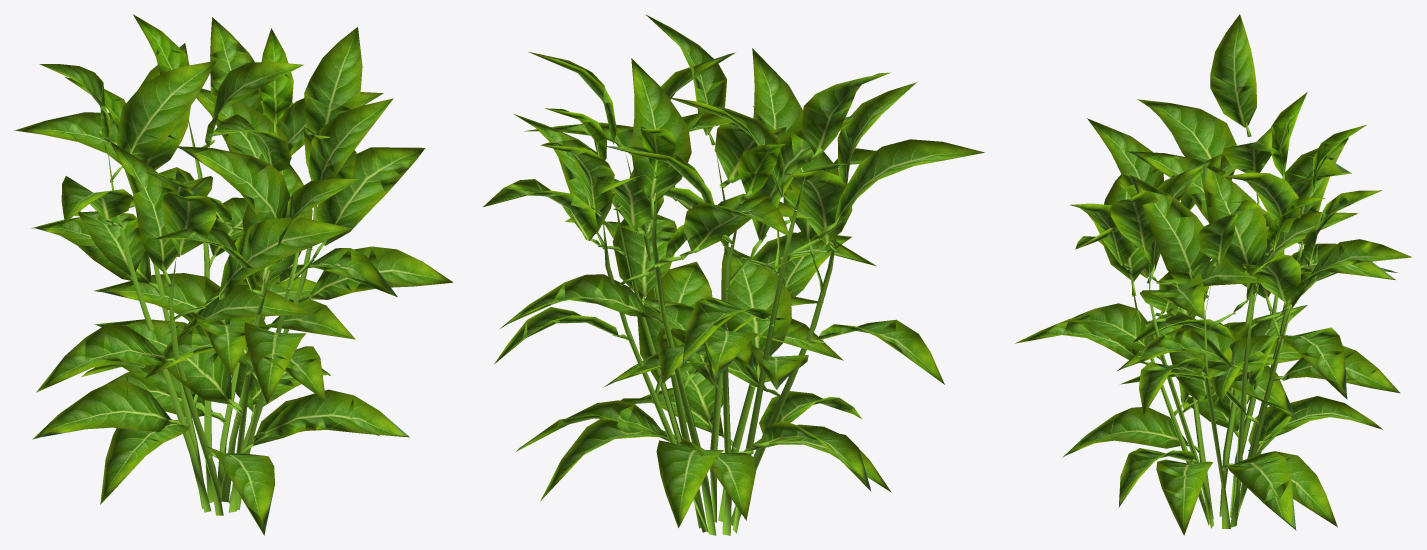
Rendered from NP_WaterSpinach_Ready_LOD1.fbx.
3 views of the same model, side by side, from view 1: azimuth 30°, elevation 25°; view 2: azimuth 150°, elevation 25°; view 3: azimuth 270°, elevation 25° (orthographic). The views are drawn at different scales.
Visible parts, largest first — view 1: NP_WaterSpinach_Ready; view 2: NP_WaterSpinach_Ready; view 3: NP_WaterSpinach_Ready.
Part boxes in pixels (x1=…): NP_WaterSpinach_Ready: x1=14, y1=14, x2=453, y2=535; NP_WaterSpinach_Ready: x1=483, y1=14, x2=984, y2=535; NP_WaterSpinach_Ready: x1=1015, y1=14, x2=1411, y2=535.
Bounding box in the file's own units: 84.46 × 97.14 × 81.02.
